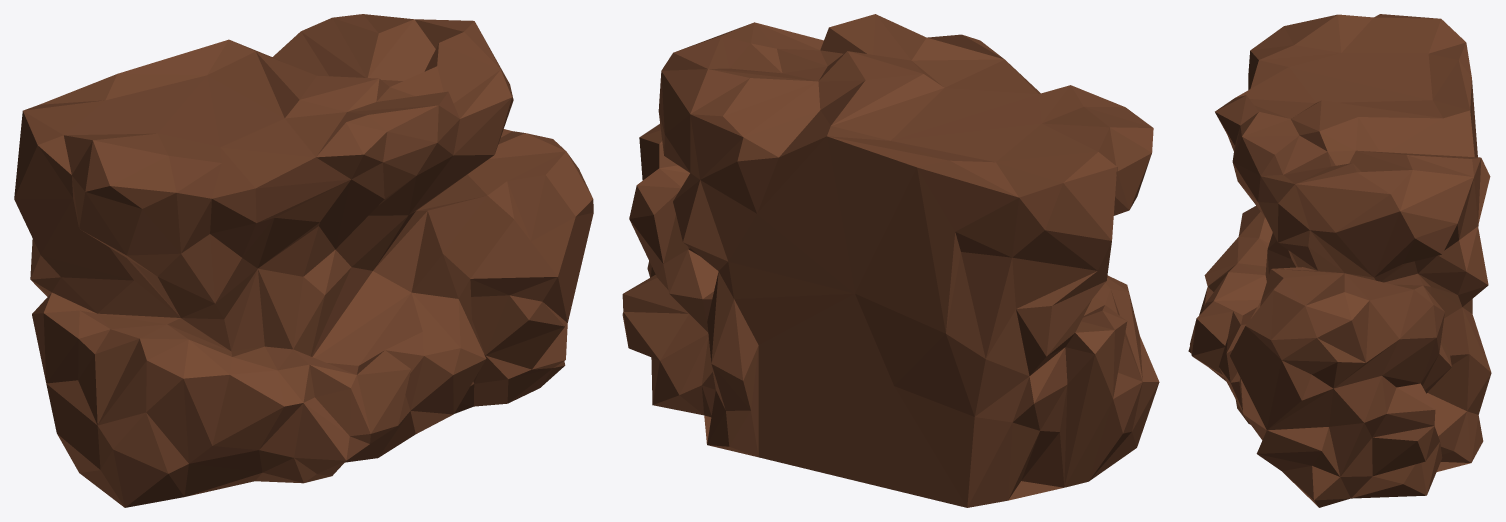
File: SM_cliff_05.fbx
The picture shows the model from 3 angles, left to right: view 1: azimuth 30°, elevation 25°; view 2: azimuth 150°, elevation 25°; view 3: azimuth 270°, elevation 25°; orthographic projection. The views are drawn at different scales.
Visible parts, largest first — view 1: cliff_05; view 2: cliff_05; view 3: cliff_05.
Boxes of the visible parts, left/top/right/bottom form: cliff_05: left=14, top=14, right=593, bottom=507; cliff_05: left=622, top=14, right=1159, bottom=507; cliff_05: left=1188, top=14, right=1491, bottom=507.
Bounding box in the file's own units: 3409 × 2242 × 1972.
